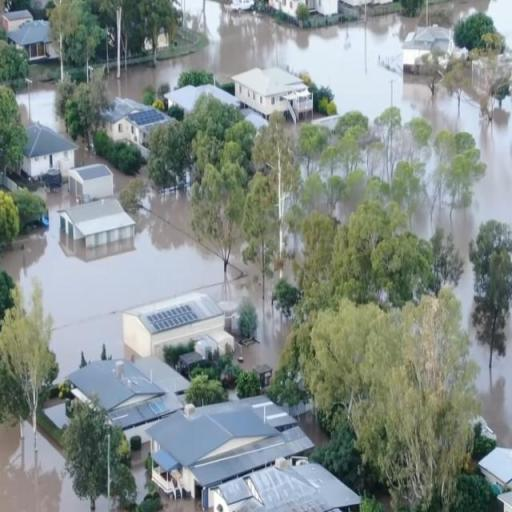flood: (107, 1, 512, 336), (0, 169, 288, 378), (0, 424, 89, 512), (472, 319, 512, 446), (16, 82, 63, 132)
house: (148, 397, 285, 479), (62, 356, 191, 440), (203, 462, 359, 512), (118, 292, 235, 354), (58, 198, 136, 263), (237, 63, 311, 126), (23, 118, 78, 184), (103, 100, 177, 142), (398, 22, 454, 66), (477, 440, 512, 508), (266, 0, 342, 28), (14, 14, 52, 68), (68, 164, 114, 206), (224, 0, 252, 20)
